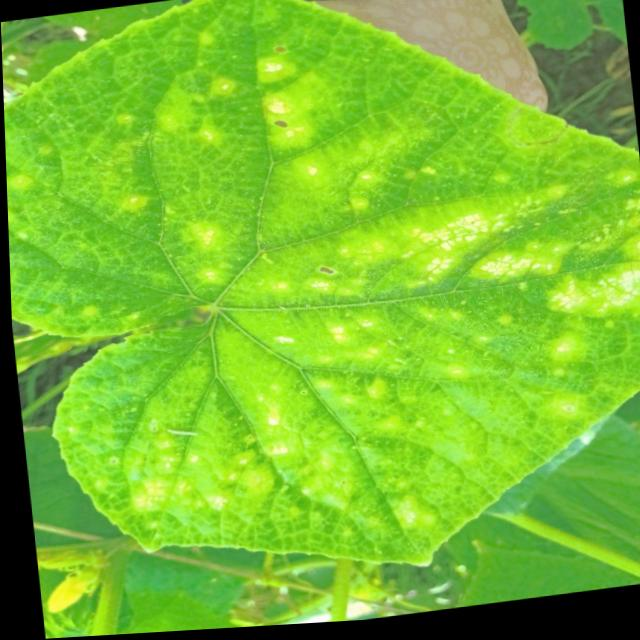Downy-Mildew: (3, 0, 640, 572)
